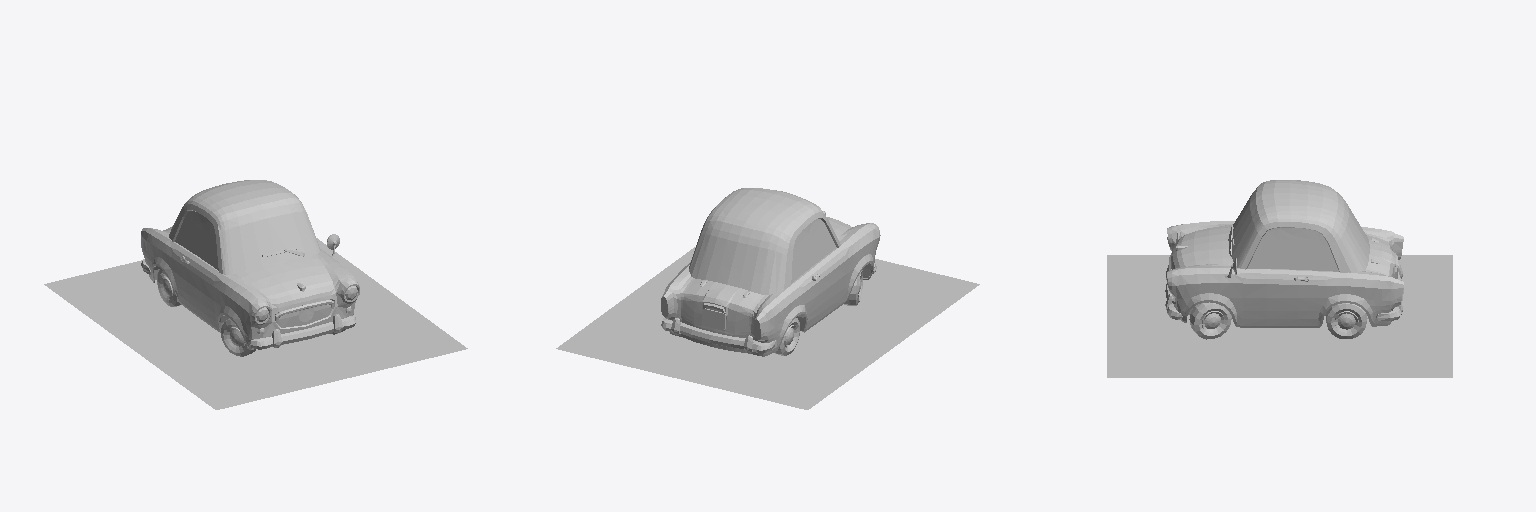
Rendered from Pony_cartoon_mod.obj.
The picture shows the model from 3 angles: view 1: azimuth 30°, elevation 25°; view 2: azimuth 150°, elevation 25°; view 3: azimuth 270°, elevation 25°; orthographic projection.
Visible parts, largest first — view 1: Pony_cartoon; view 2: Pony_cartoon; view 3: Pony_cartoon.
Part boxes in pixels (x1,y1,x2,y2): Pony_cartoon: (44, 180, 467, 409); Pony_cartoon: (556, 188, 979, 409); Pony_cartoon: (1107, 180, 1452, 377).
Size of the model in its own units: 3.73 by 1.72 by 4.42.